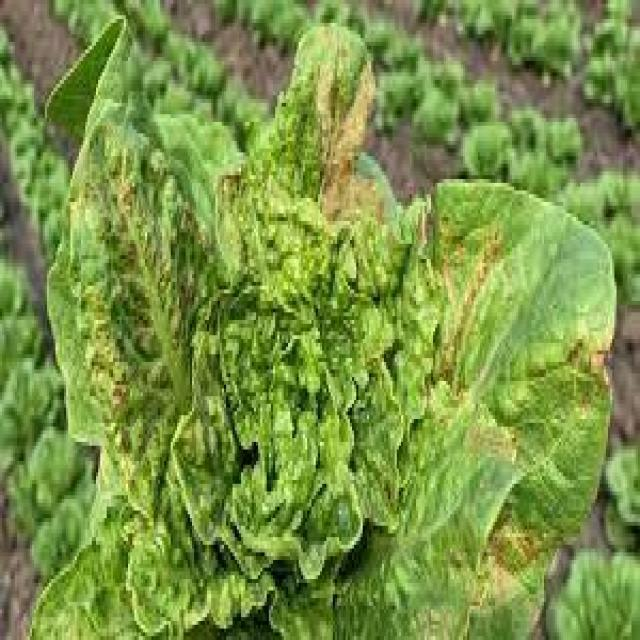Viral: (73, 158, 325, 625)
